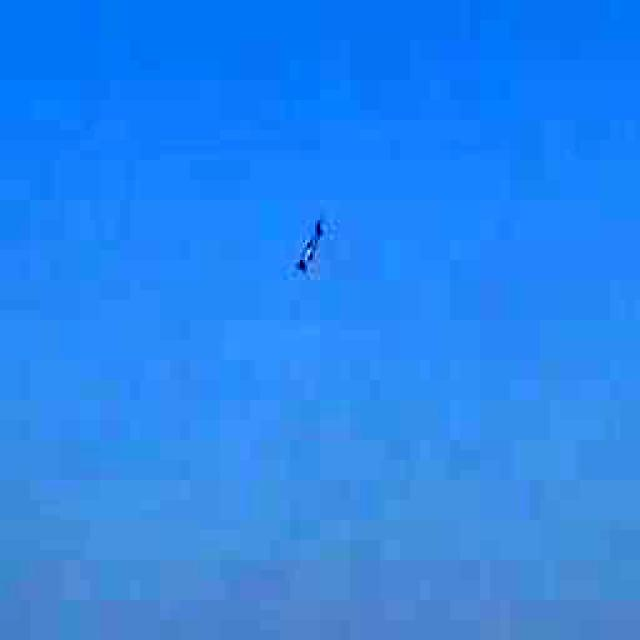bird: (281, 200, 339, 282)
